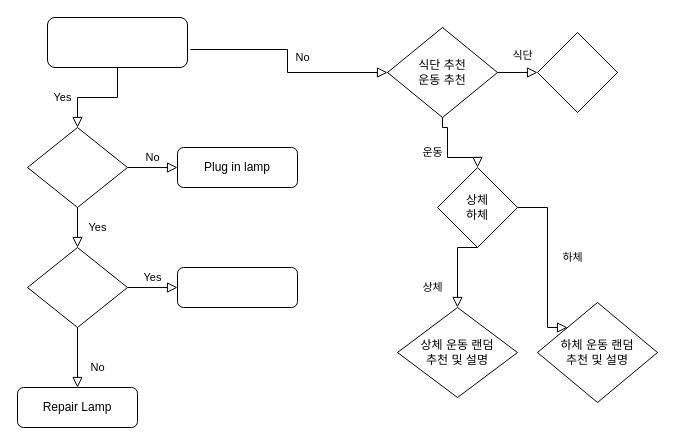
Some shapes in this 675 by 445 pixel diagram are drawn without their labels. Here are the shapes that lost their labels. From the top down, the centre of each, then its label:
At point 117,42: "하루 전체 스케쥴".
At point 577,72: "아침 점심 저녁".
At point 237,287: "Replace Bulb".
